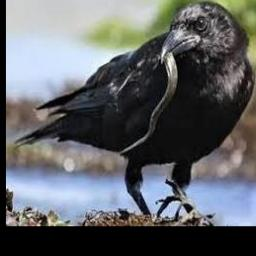Crow: (12, 1, 255, 217)
